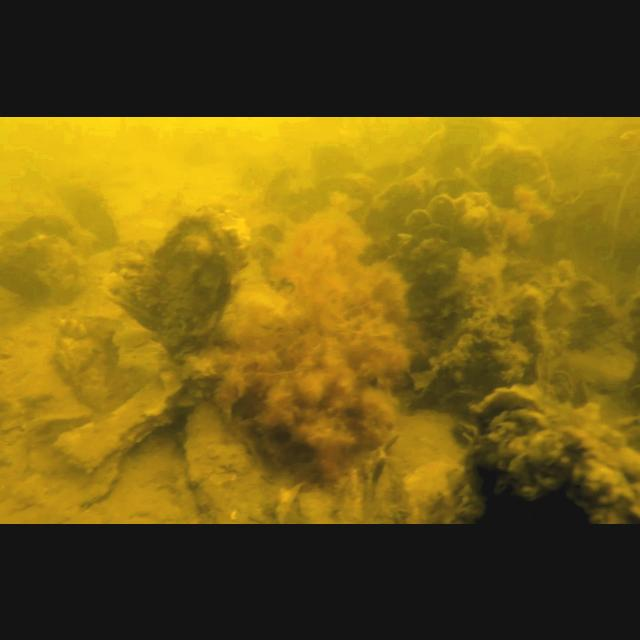Oyster-Closed: (161, 200, 253, 360), (52, 365, 186, 473), (512, 420, 640, 524), (182, 397, 274, 523), (469, 138, 555, 254), (364, 170, 486, 246), (54, 314, 120, 412), (101, 236, 161, 334), (403, 192, 492, 254), (55, 179, 122, 243)
Oyster-Open: (471, 381, 554, 524), (0, 207, 96, 299), (399, 222, 463, 341), (250, 218, 300, 298)
